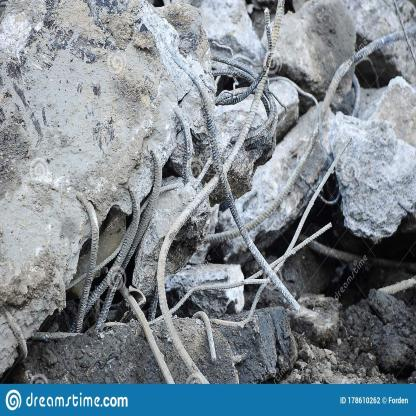rebar: (156, 1, 285, 383), (203, 27, 415, 245), (170, 48, 300, 315), (93, 146, 163, 332), (30, 188, 102, 341), (85, 182, 141, 316), (276, 158, 338, 272), (101, 180, 178, 270), (212, 68, 278, 169), (149, 277, 272, 325), (210, 52, 276, 140), (120, 282, 176, 385), (216, 9, 272, 106), (270, 77, 332, 164), (249, 221, 332, 278), (308, 242, 401, 268), (212, 285, 266, 326), (395, 1, 416, 66), (193, 310, 217, 361), (4, 309, 28, 359), (177, 109, 192, 182), (378, 273, 416, 298), (245, 121, 274, 153), (269, 84, 288, 127), (192, 155, 215, 190), (209, 36, 236, 57), (318, 187, 343, 207), (350, 71, 361, 116), (148, 279, 159, 319), (230, 76, 240, 92), (212, 75, 224, 88), (235, 352, 245, 364)
